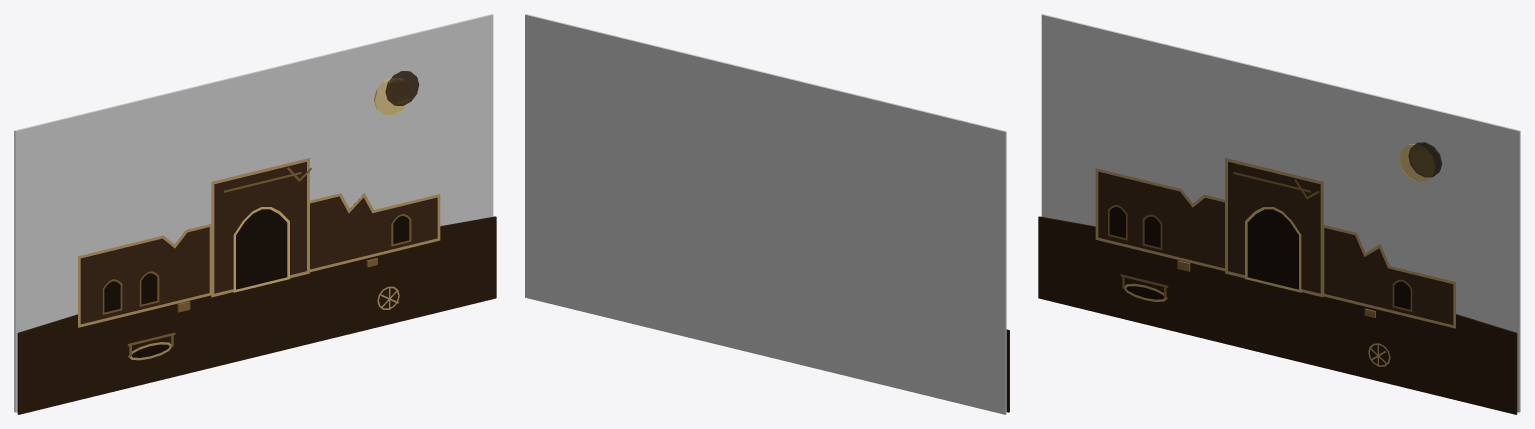
File: loc-karavan-saray-pustoy.glb
3 views of the same model, side by side, from view 1: azimuth 30°, elevation 25°; view 2: azimuth 150°, elevation 25°; view 3: azimuth 330°, elevation 25° (orthographic).
Visible parts, largest first — view 1: loc-karavan-saray-pustoy; view 2: loc-karavan-saray-pustoy; view 3: loc-karavan-saray-pustoy.
Boxes of the visible parts, bbox=[...] form: loc-karavan-saray-pustoy: bbox=[14, 14, 496, 414]; loc-karavan-saray-pustoy: bbox=[525, 14, 1009, 414]; loc-karavan-saray-pustoy: bbox=[1038, 14, 1520, 414].
Bounding box in the file's own units: 5.33 × 3 × 0.381.
